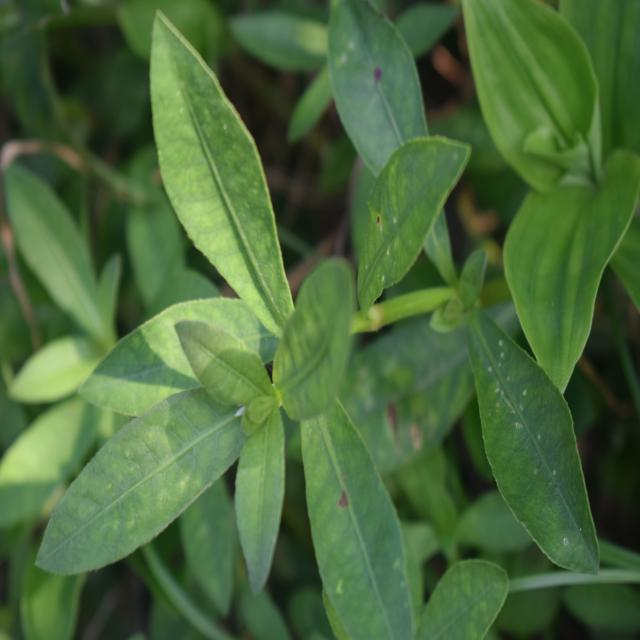Alligatorweed: (92, 37, 444, 605)
